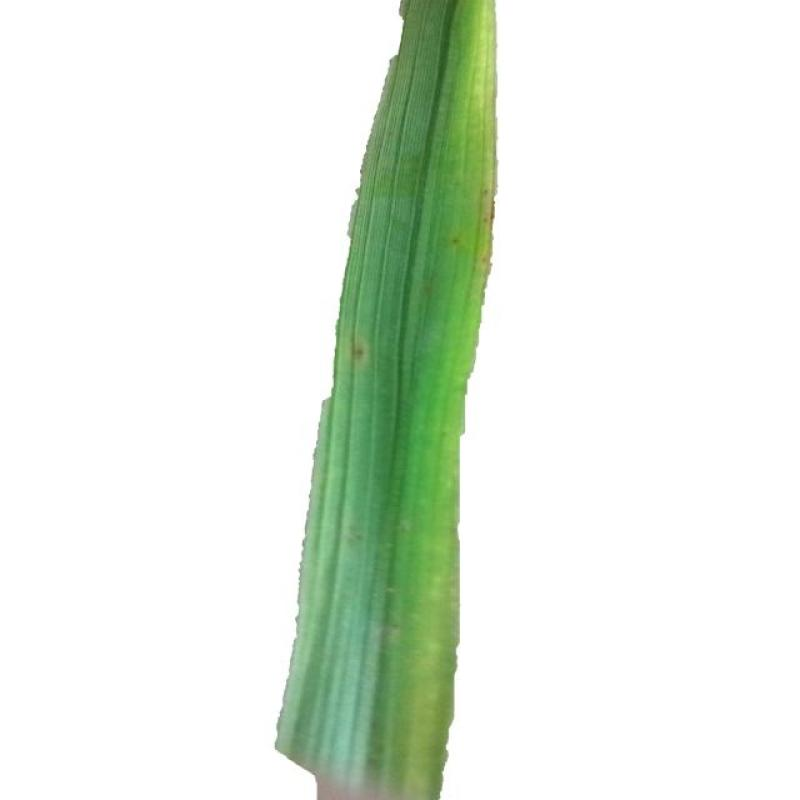Rice Tungro: (366, 490, 448, 800), (434, 0, 492, 346)
